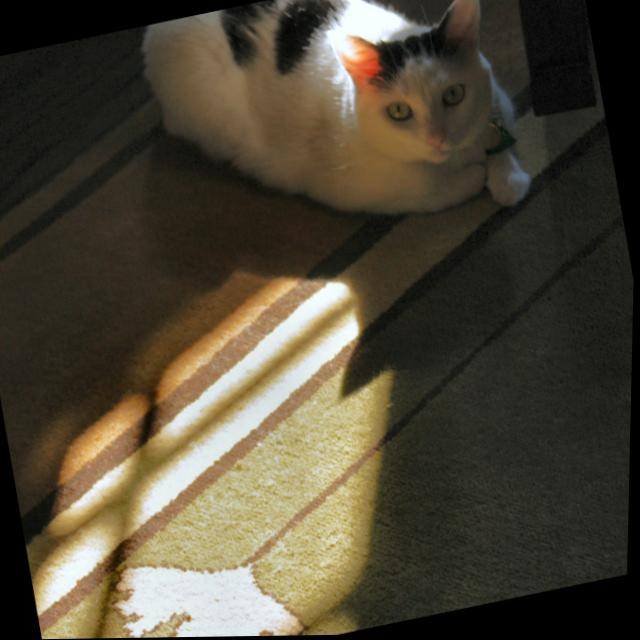animals: (325, 0, 501, 165)
